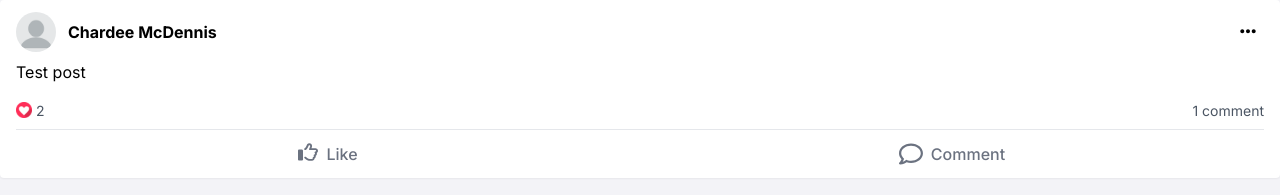
Post menu display tests › Opens post menu on click of ellipsis btn if menu is currently closed
This screenshot has width=1280, height=195.
Step 1. Click the button with test id "menu" → (1248, 31), box [1232,18,1264,44]
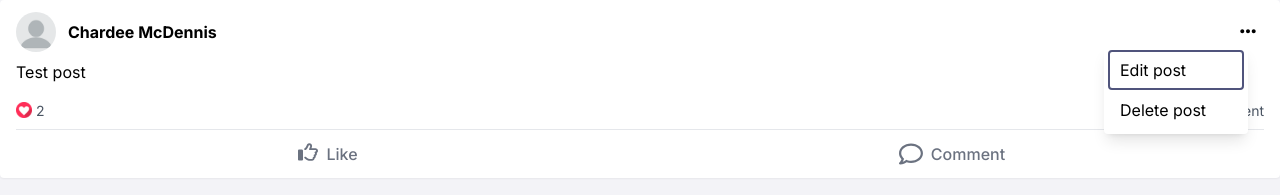
Result: the menu with test id "dropdown" is shown at [1104,46,1248,134]
